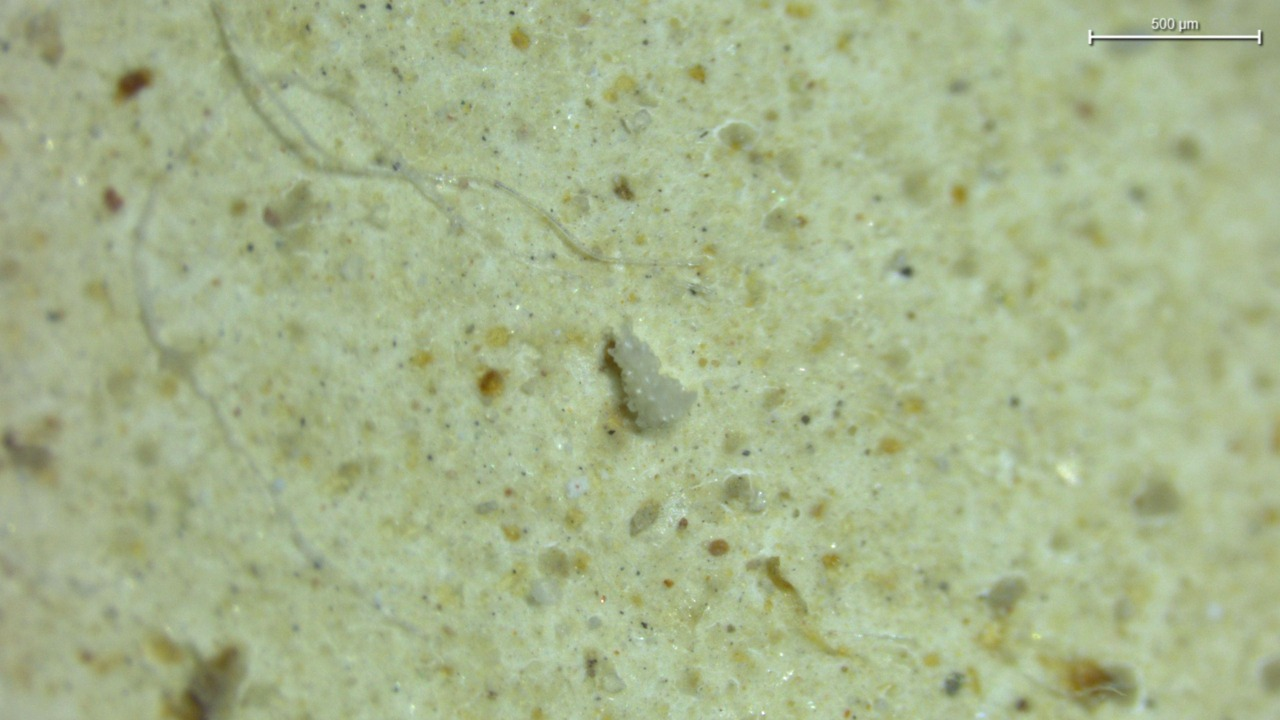microplastic_fragment: (607, 325, 695, 430)
